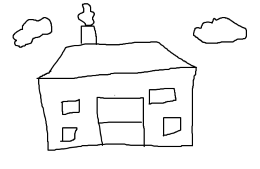clouds: (191, 15, 247, 45), (12, 15, 53, 49)
door: (93, 94, 147, 150)
open_window: (149, 86, 176, 104), (162, 116, 181, 136), (61, 99, 80, 116), (61, 127, 77, 142)
roof: (37, 33, 197, 78)
smoking_chimney: (75, 0, 98, 45)
wall: (38, 66, 197, 151)
